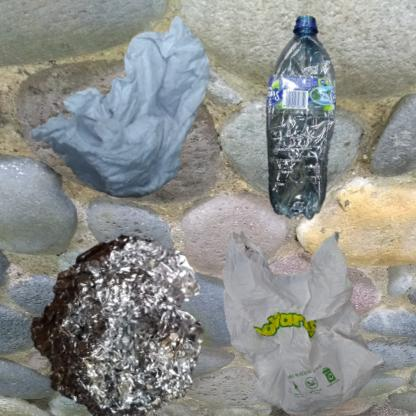aluminio: (10, 213, 237, 416)
bolsa: (213, 213, 395, 416)
botella: (213, 10, 416, 290)
papel: (10, 10, 246, 227)
